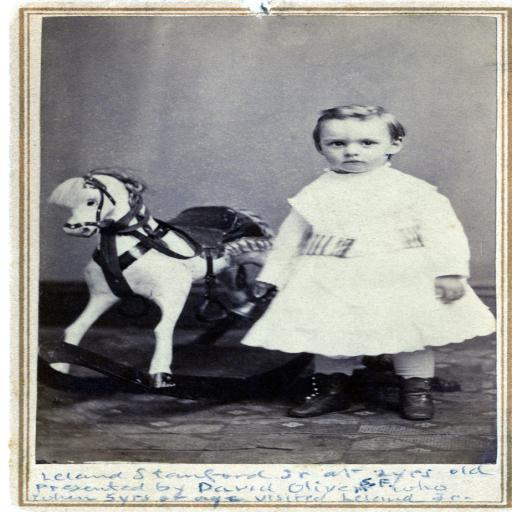Horse: (46, 163, 274, 388)
